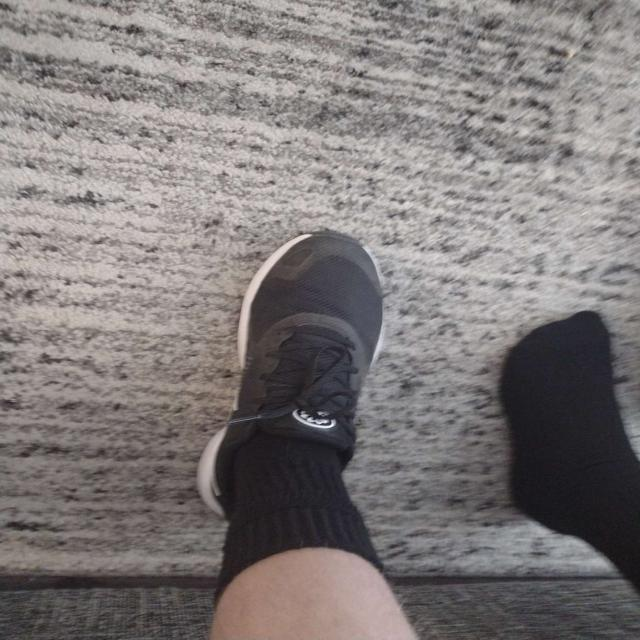shoe: (197, 229, 388, 521)
